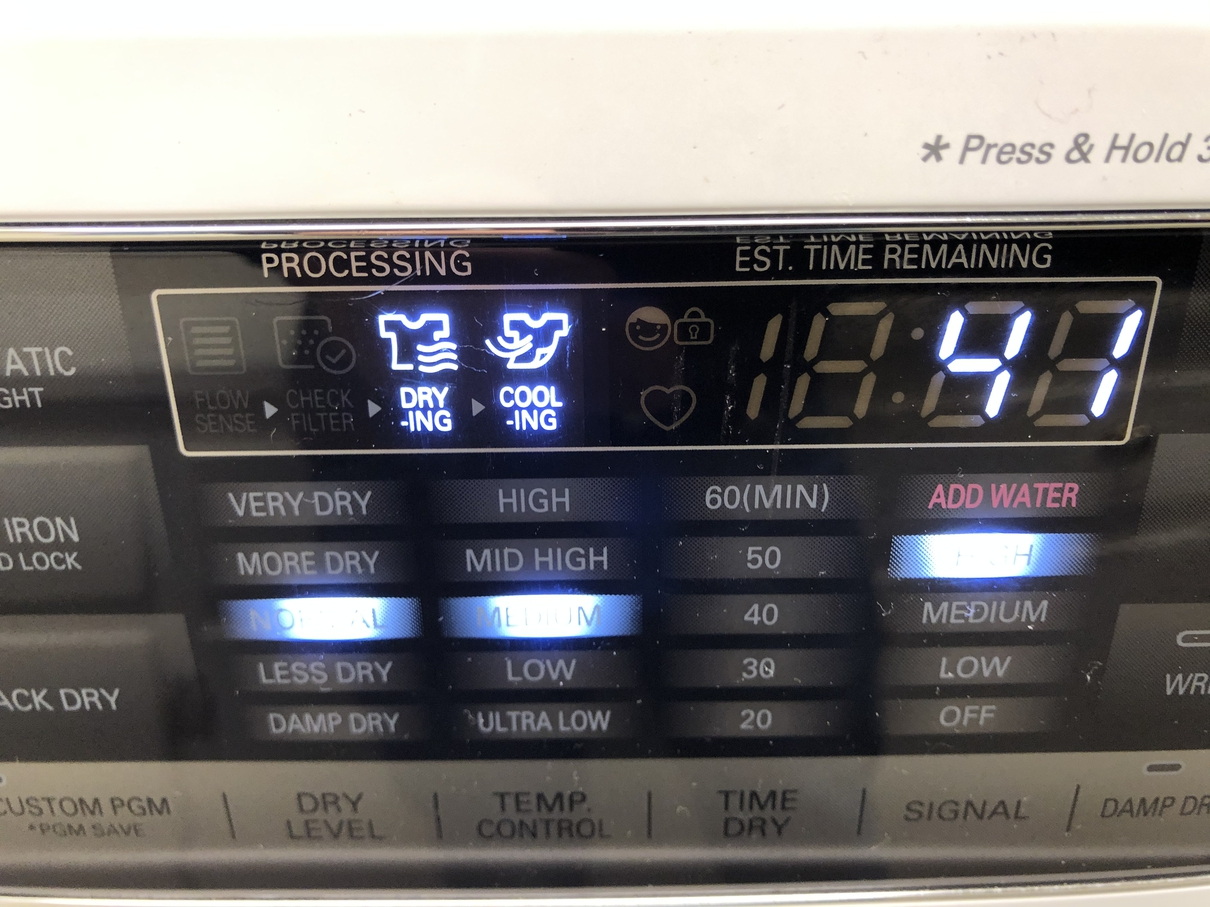status: (120, 220, 1173, 491)
